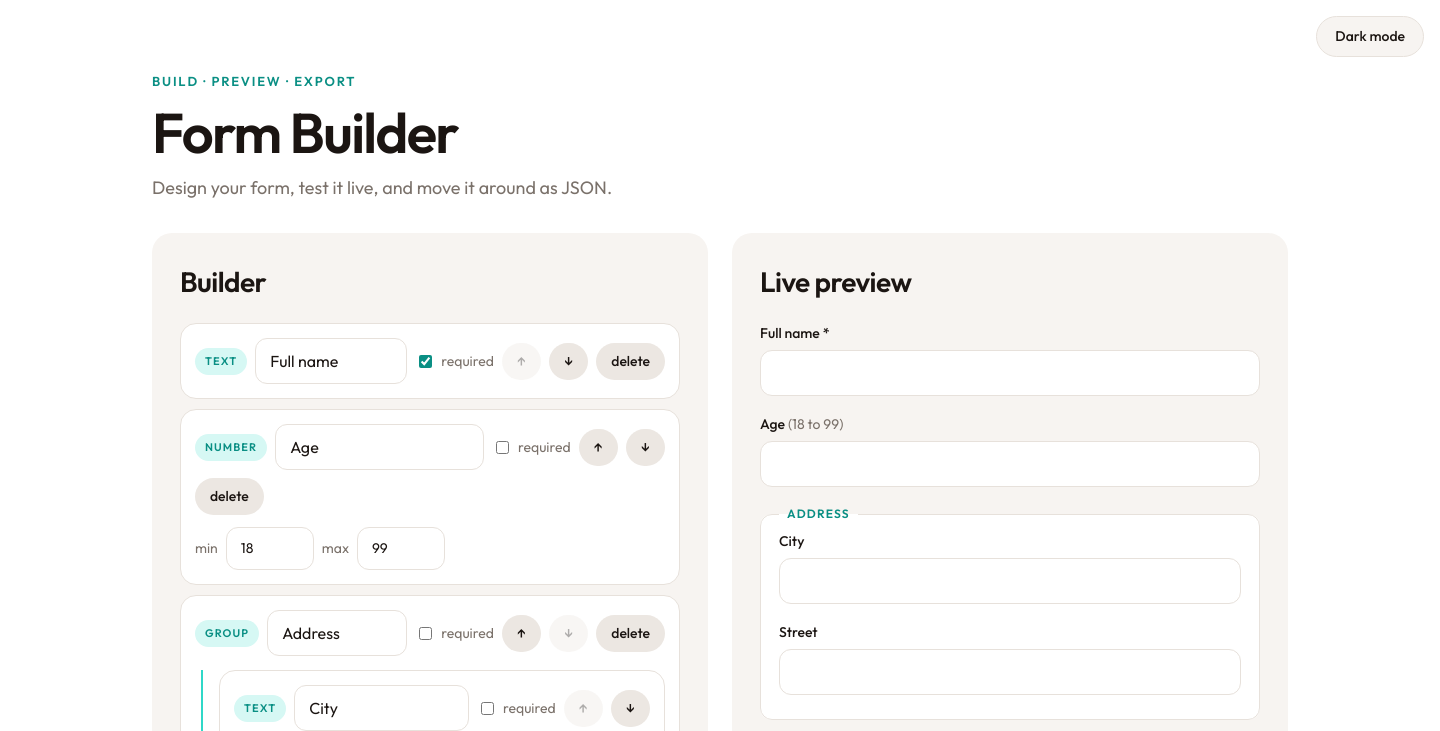
App › drops a deleted field's value along with the field
In the field labelled "Full name *": (1010, 373) [760, 350, 1260, 396], type "Ada"
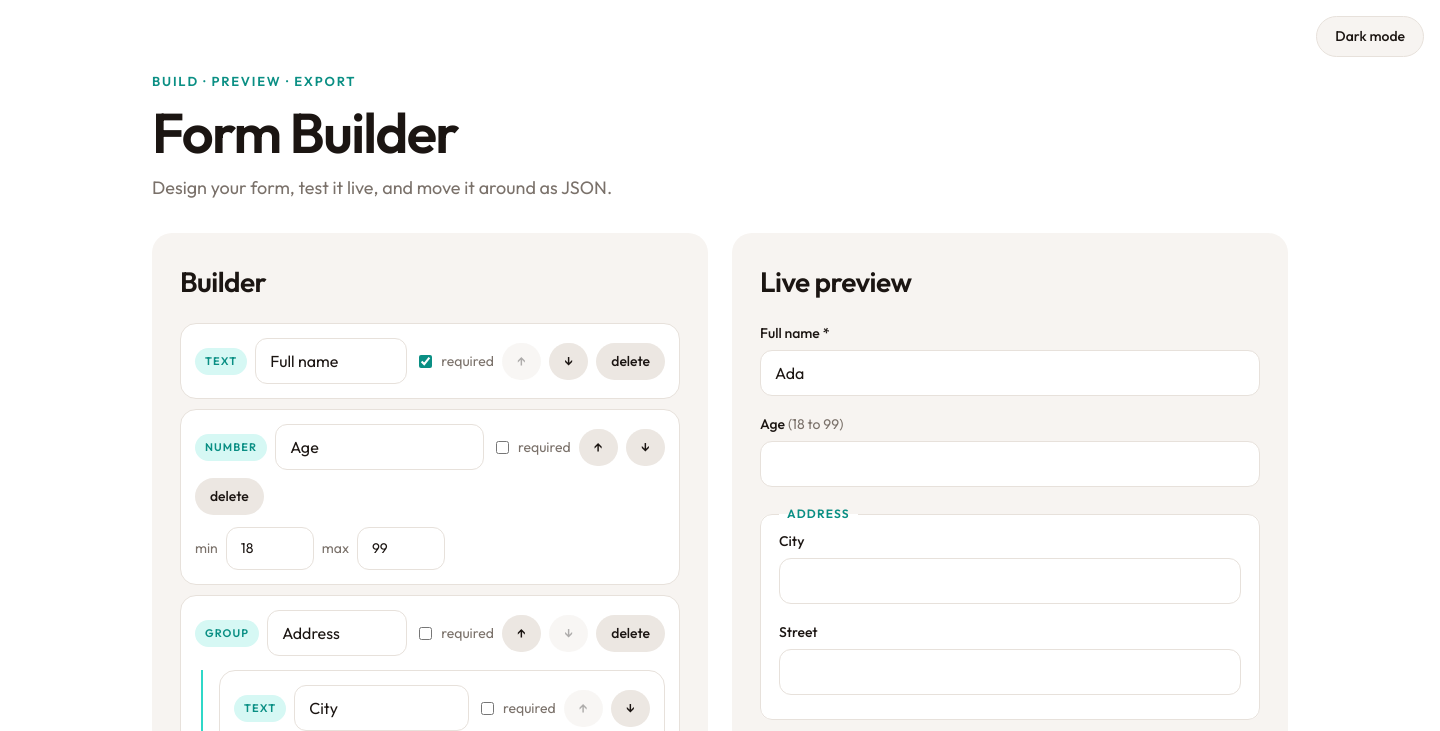
Click the button with aria-label "Delete field": (631, 361) [596, 343, 665, 380]
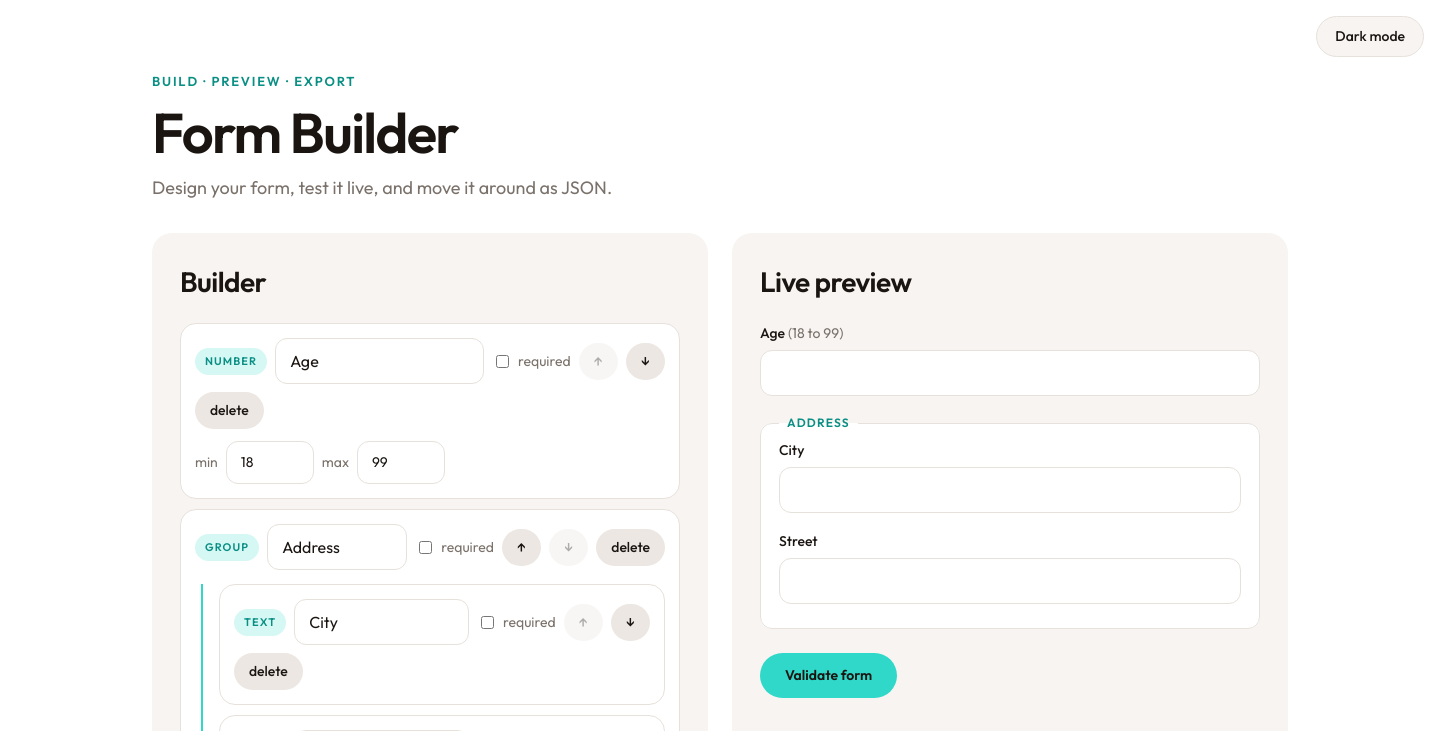
Expected: the field showing "Ada" is not shown
Result: the label labelled "Full name" is gone
